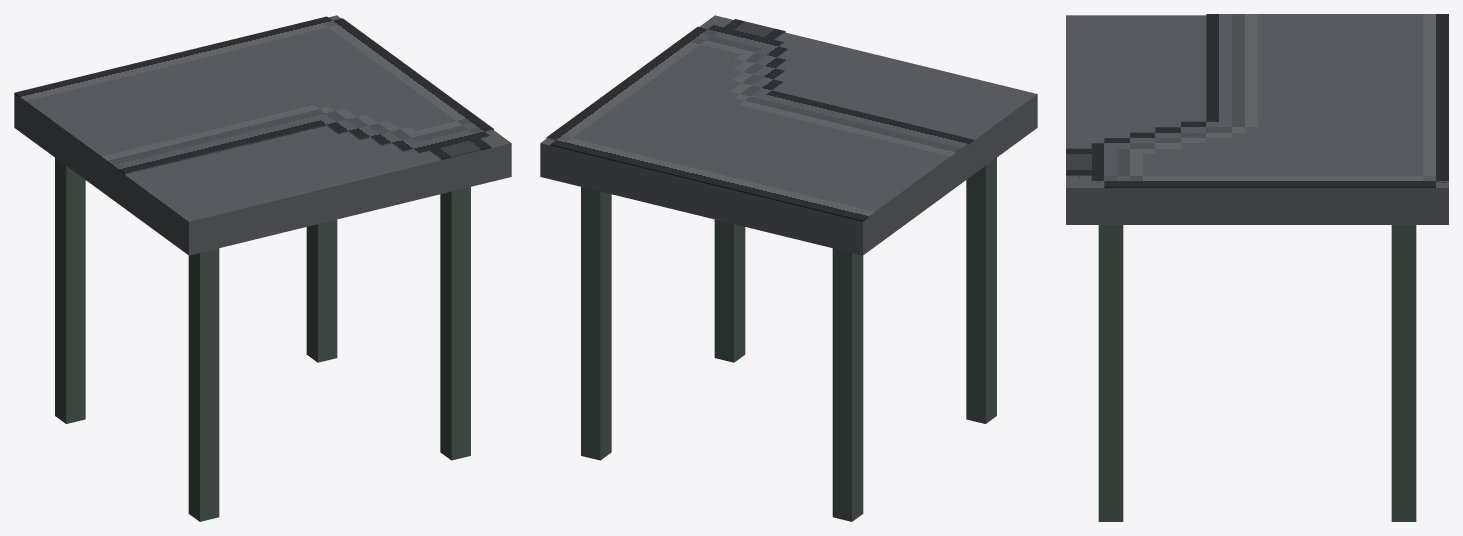
The model's file is CMU3DInteriorRMCTableTOCEast.glb.
3 views of the same model, side by side, from view 1: azimuth 30°, elevation 25°; view 2: azimuth 150°, elevation 25°; view 3: azimuth 270°, elevation 25° (orthographic). The views are drawn at different scales.
Visible parts, largest first — view 1: source table surface, tabletop, table leg (×4); view 2: source table surface, tabletop, table leg (×4); view 3: source table surface, tabletop, table leg (×2).
Boxes of the visible parts, box(x1,y1,x2,y2) form: source table surface: box(14, 16, 493, 174); tabletop: box(14, 15, 511, 255); table leg (×4): box(55, 158, 470, 521); source table surface: box(546, 19, 973, 221); tabletop: box(540, 15, 1037, 255); table leg (×4): box(581, 158, 996, 521); source table surface: box(1066, 14, 1448, 187); tabletop: box(1066, 15, 1448, 224); table leg (×2): box(1098, 225, 1416, 521).
Size of the model in its own units: 1 by 0.944 by 0.9375.
3 materials, 1 textured.
